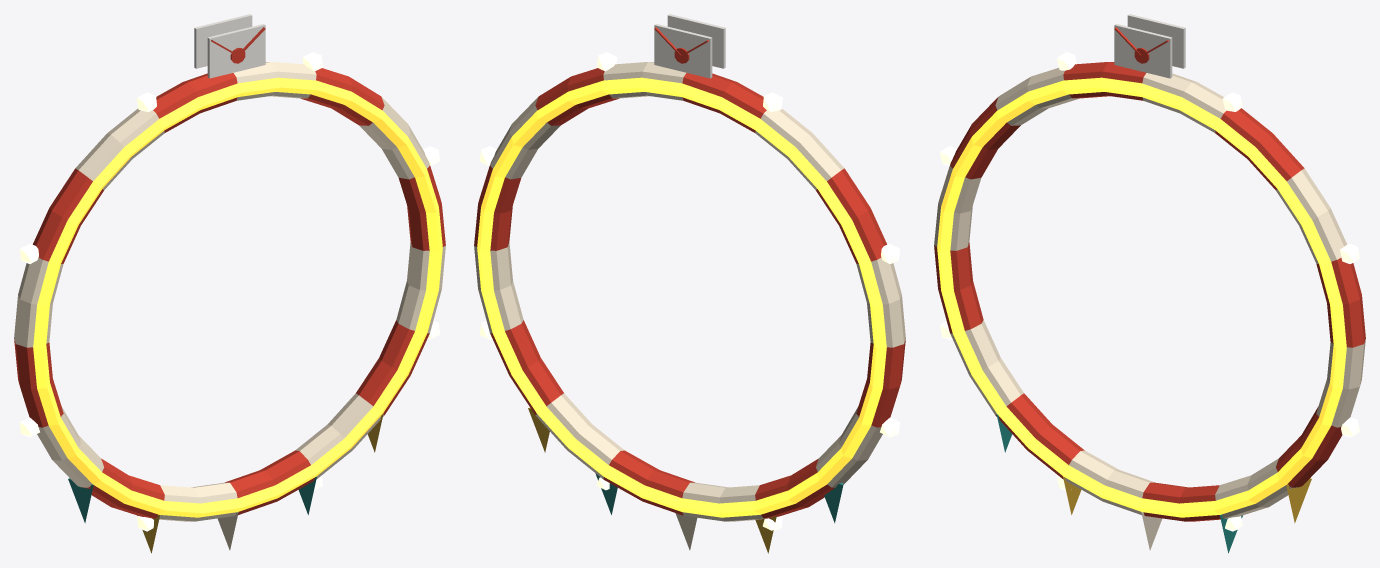
File: hoop.glb
3 views of the same model, side by side, from view 1: azimuth 30°, elevation 25°; view 2: azimuth 150°, elevation 25°; view 3: azimuth 330°, elevation 25° (orthographic).
Visible parts, largest first — view 1: Hoop; view 2: Hoop; view 3: Hoop.
Part boxes in pixels (x1,y1,x2,y2): Hoop: (14,14,445,553); Hoop: (474,14,905,553); Hoop: (934,14,1365,553).
Size of the model in its own units: 12.96 by 15.17 by 1.24.
